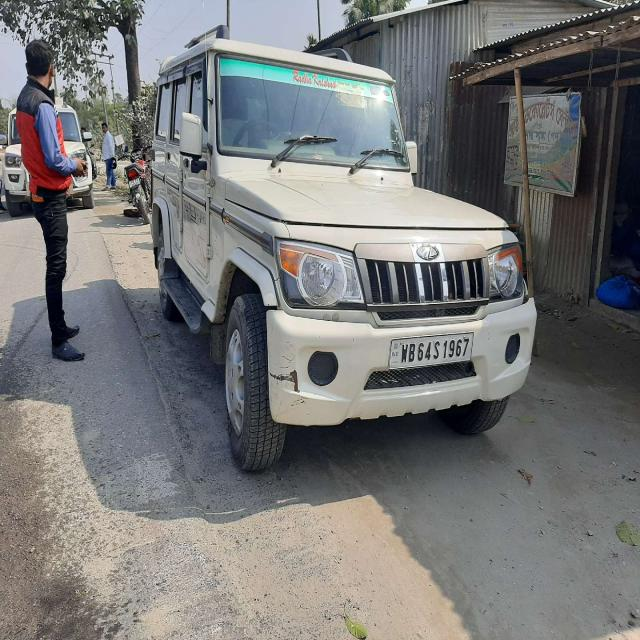light_vehicle: (150, 43, 530, 412)
